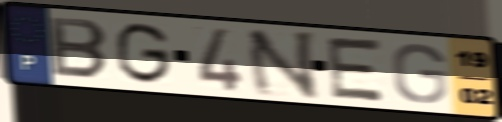4: (194, 25, 246, 93)
B: (48, 14, 112, 82)
E: (325, 34, 388, 105)
G: (389, 41, 450, 106), (114, 21, 173, 87)
N: (243, 29, 321, 101)
